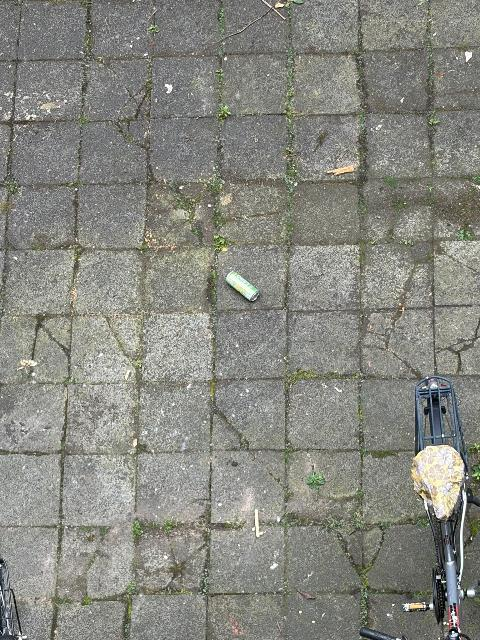can: (224, 271, 258, 303)
